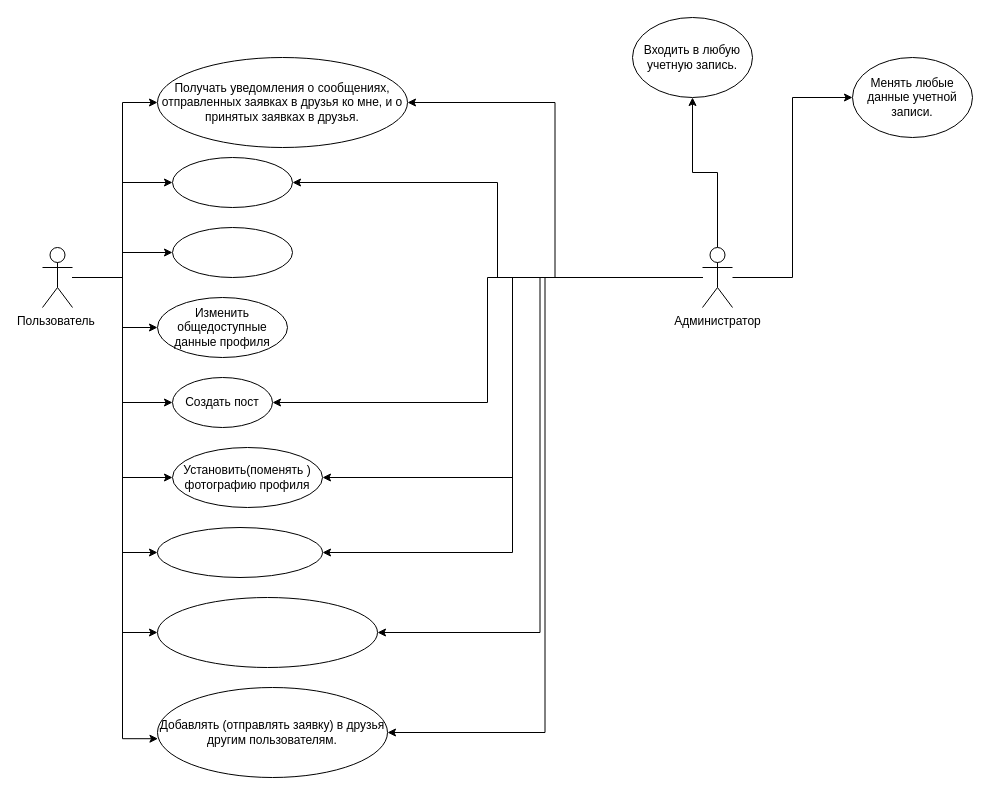
The diagram is 990 pixels wide and 795 high, and some of its shapes have lost their labels. The shapes that lost their labels are listed below. From the top down, each one's centre as x and y in pixels, then its label:
At (232,182): "Создать профиль(уч. зап.)".
At (232,252): "Войти в профиль(уч.зап.)".
At (239,552): "Написать сообщение другому пользователю".
At (267,632): "Оставить комментарий под любым постом, фотографией.".
